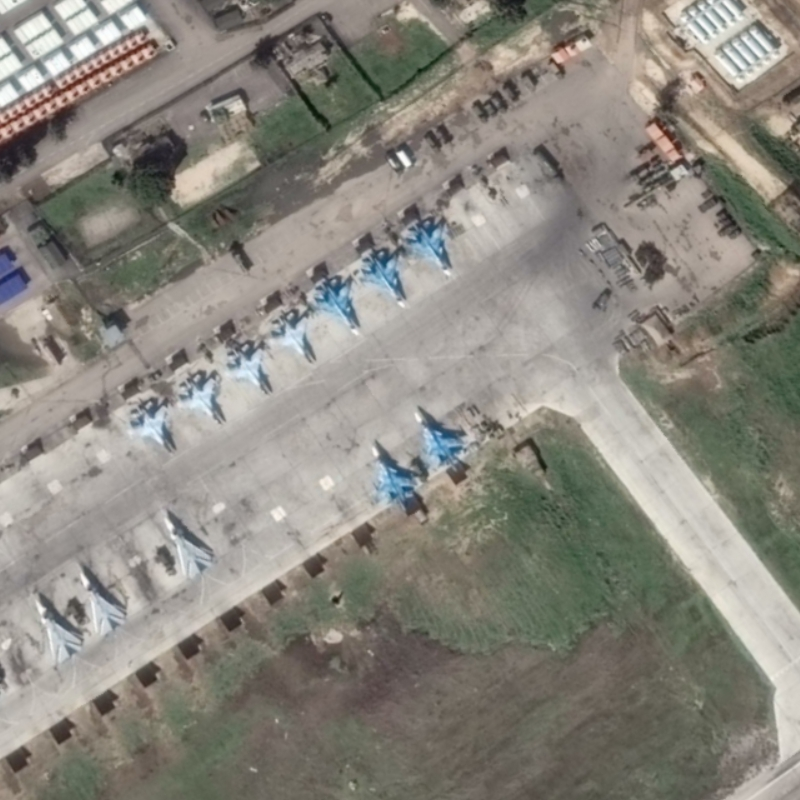A1: (123, 399, 176, 457), (174, 368, 224, 427), (224, 345, 271, 396), (270, 308, 313, 363)
A19: (366, 442, 420, 508), (354, 246, 409, 310), (414, 405, 469, 469), (402, 214, 455, 280), (310, 274, 362, 339)
A20: (33, 595, 86, 667), (161, 513, 216, 581), (78, 566, 129, 639)
